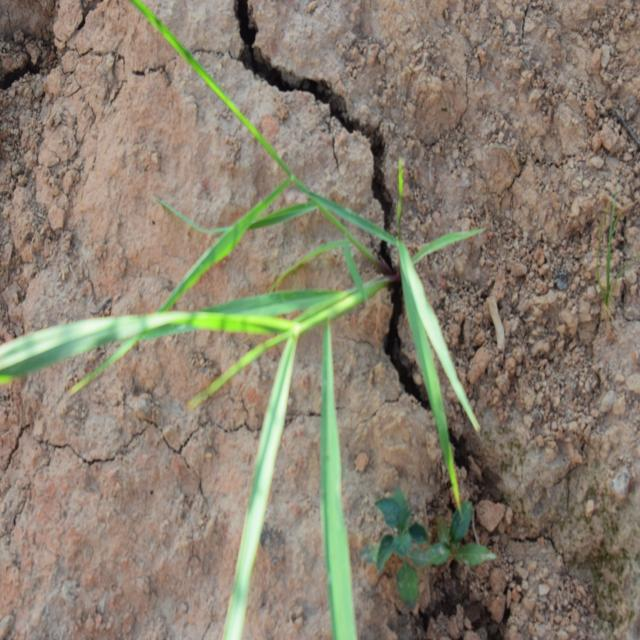green_foxtail: (29, 113, 468, 506)
